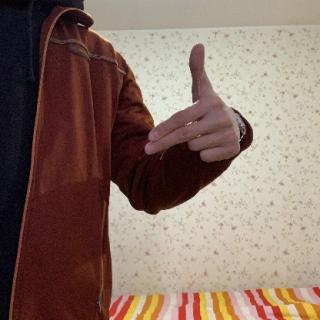GHAYN: (141, 39, 244, 169)
